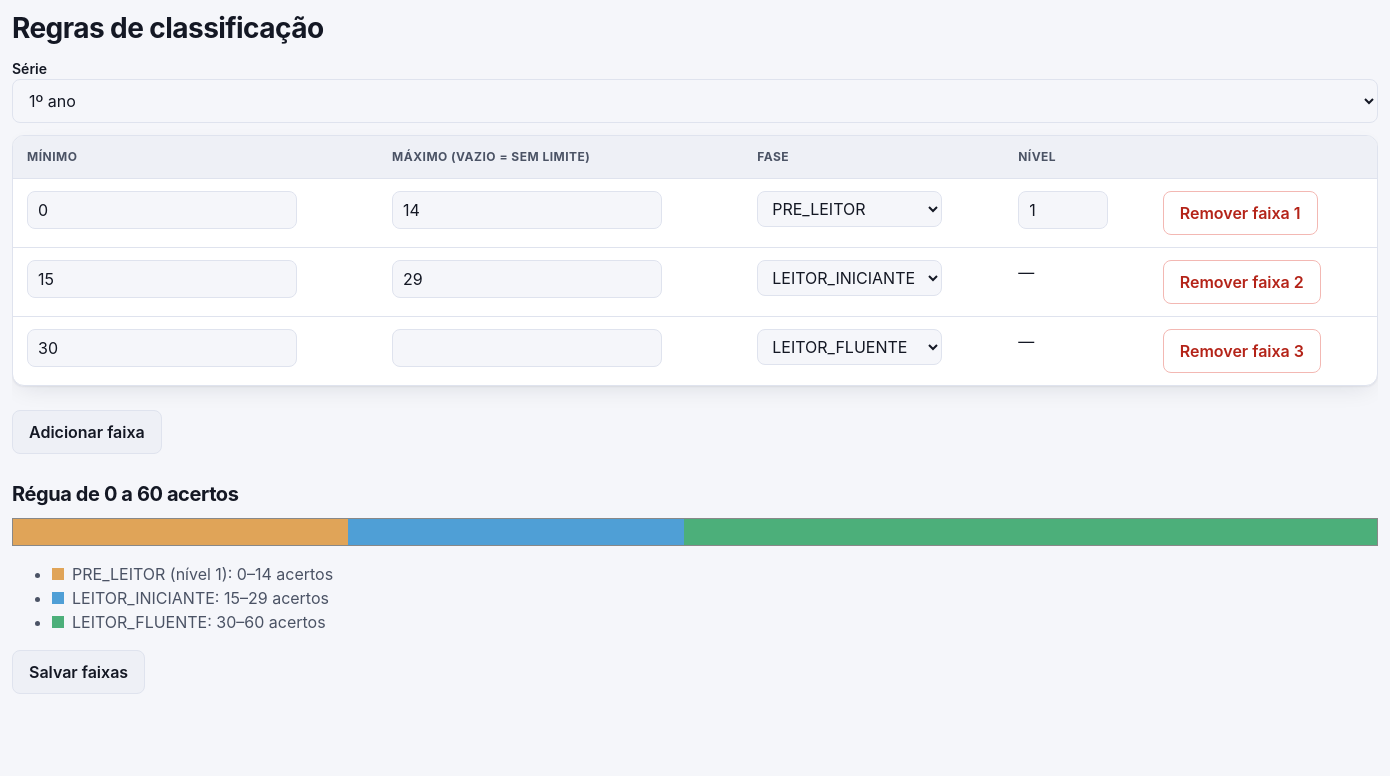
it: RegrasClassificacaoPage › shows the backend 422 message at the top and keeps the edits
The image size is (1390, 776).
Replace the text in the number field named "Mínimo da faixa 2" with "20": (162,279) [27,260,297,298]
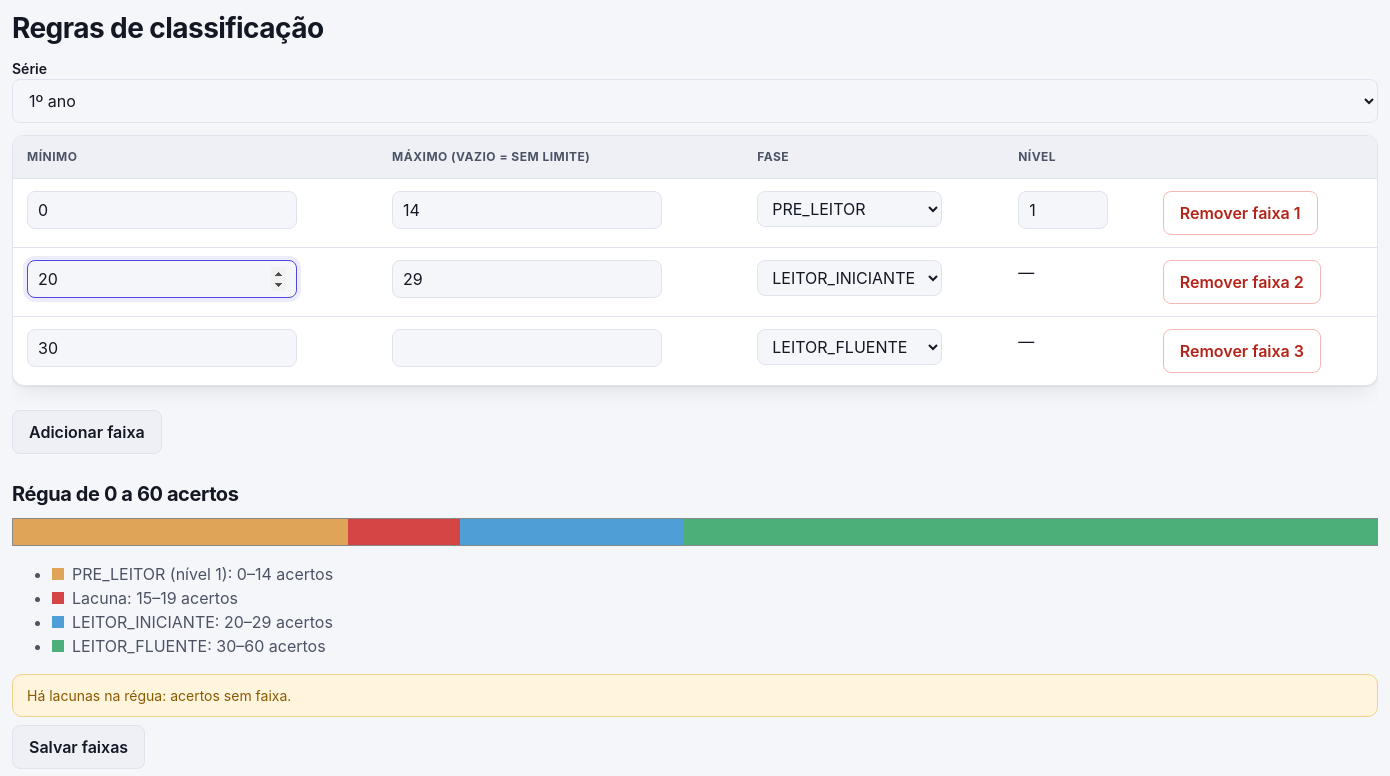
Click the button "Salvar faixas": (79,747) [12,725,145,769]
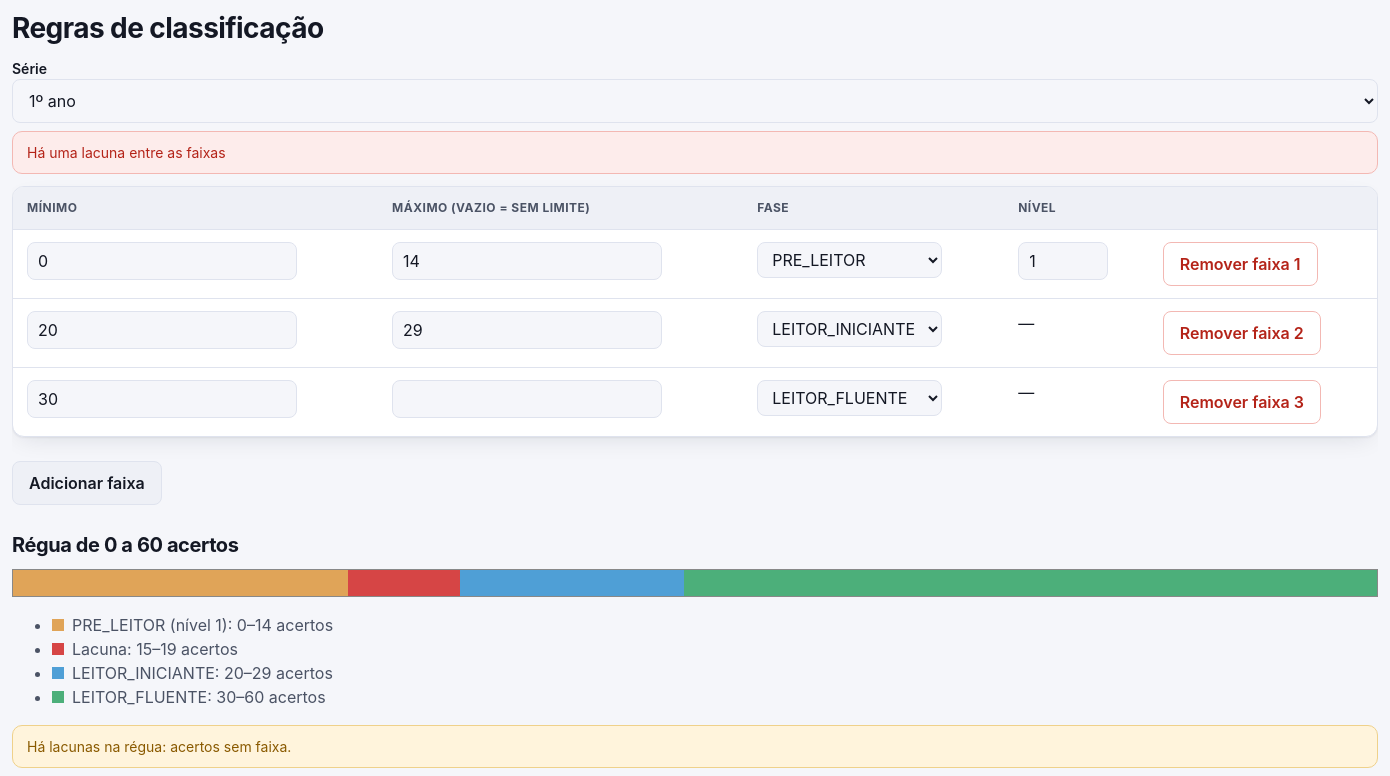
Check: the message reads "Há uma lacuna entre as faixas", box [27,144,226,161]
